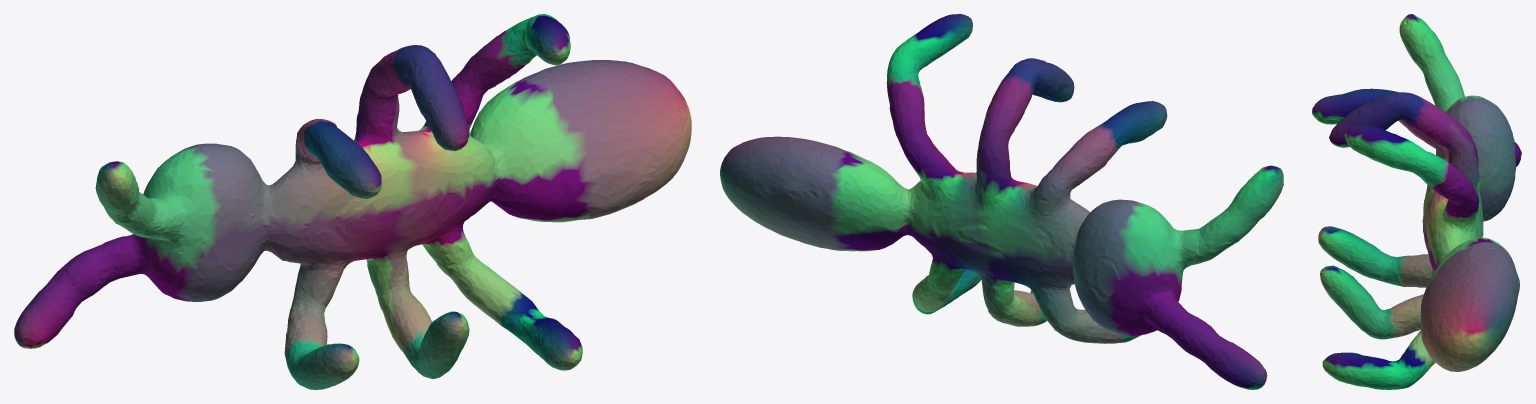
The model's file is ant-14.off.obj.
3 renders of one model, left to right at view 1: azimuth 30°, elevation 25°; view 2: azimuth 150°, elevation 25°; view 3: azimuth 270°, elevation 25°, orthographic. The views are drawn at different scales.
Size of the model in its own units: 1.69 by 0.8269 by 0.6048.
